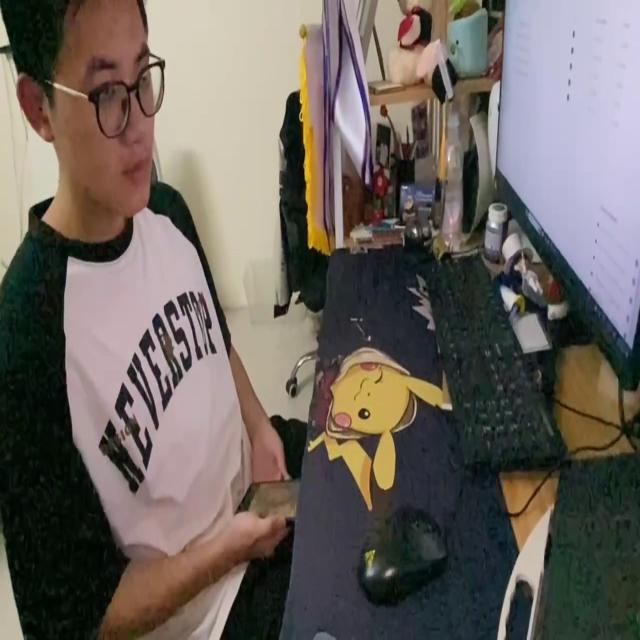laptop: (491, 5, 640, 389)
phone: (233, 469, 304, 529)
student: (0, 0, 302, 640)
